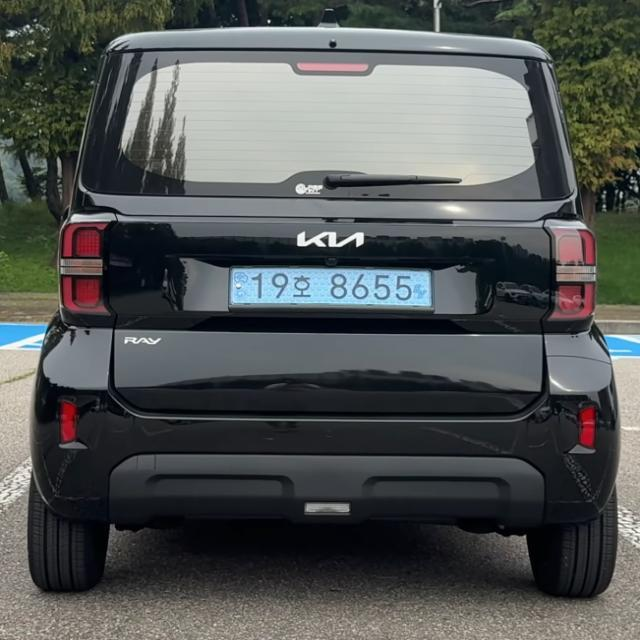car: (186, 251, 481, 333)
carev: (220, 259, 252, 317), (411, 264, 444, 319)
